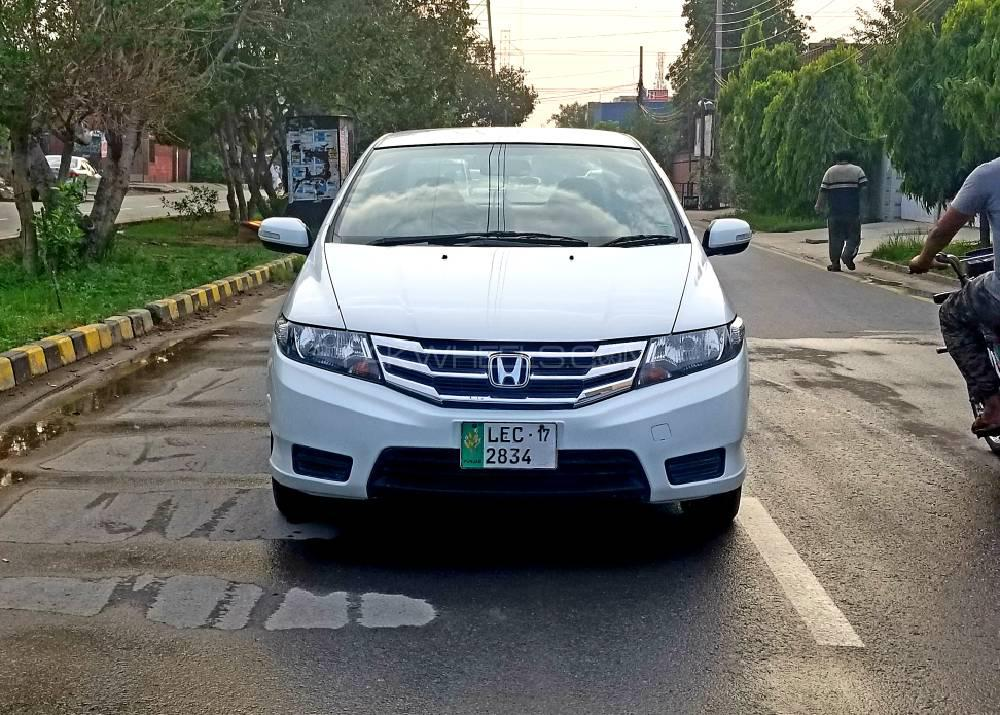plate: (454, 418, 561, 474)
